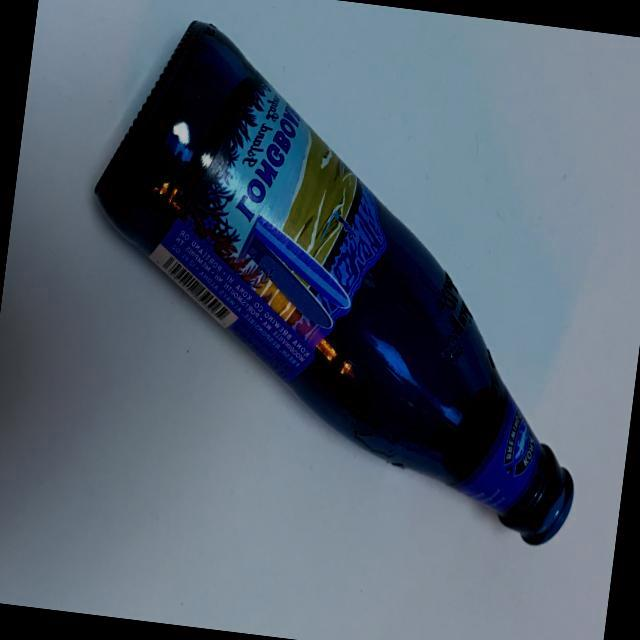glass: (49, 0, 637, 556)
